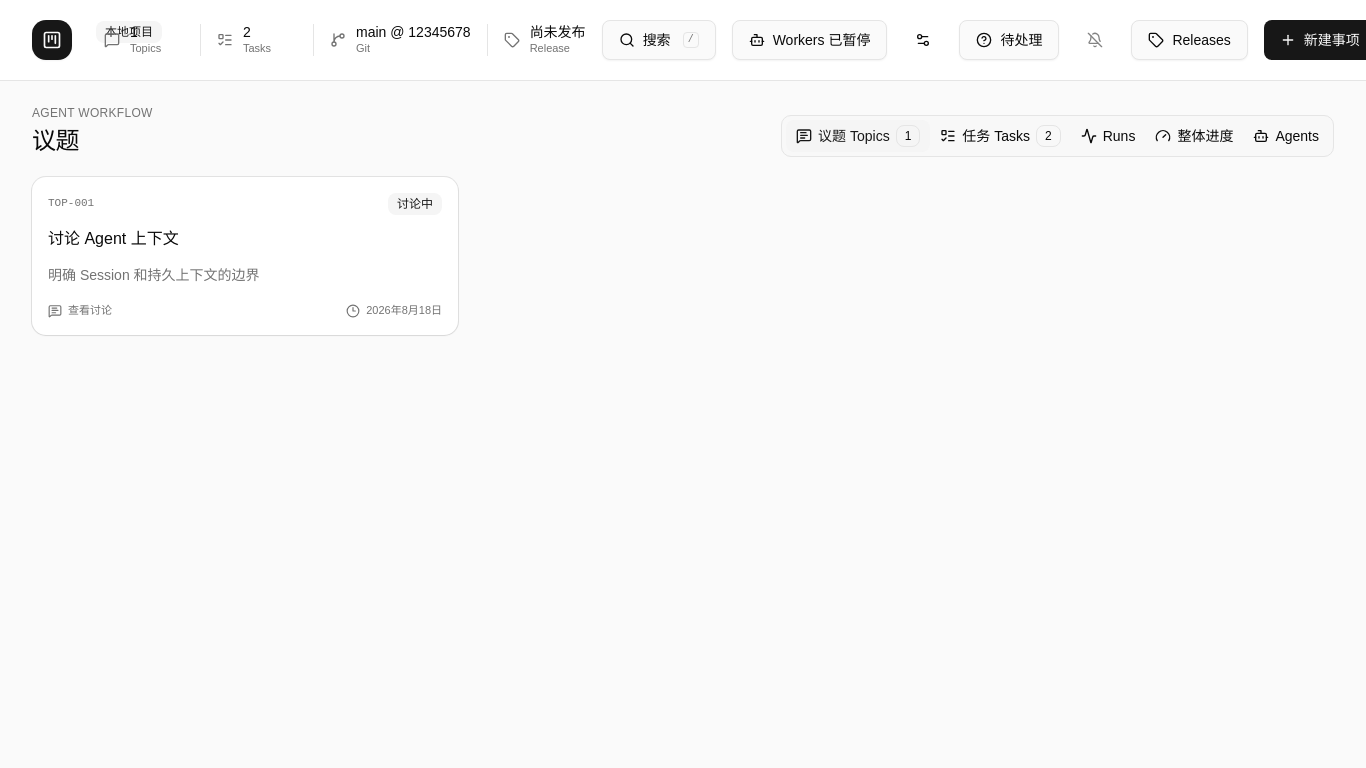
Test: App › Task Workspace 由 Worker 领取时自动准备，不暴露手动创建入口
Click the tab "任务 Tasks 2" at (1000, 136), box x1=930 y1=120 x2=1071 y2=152
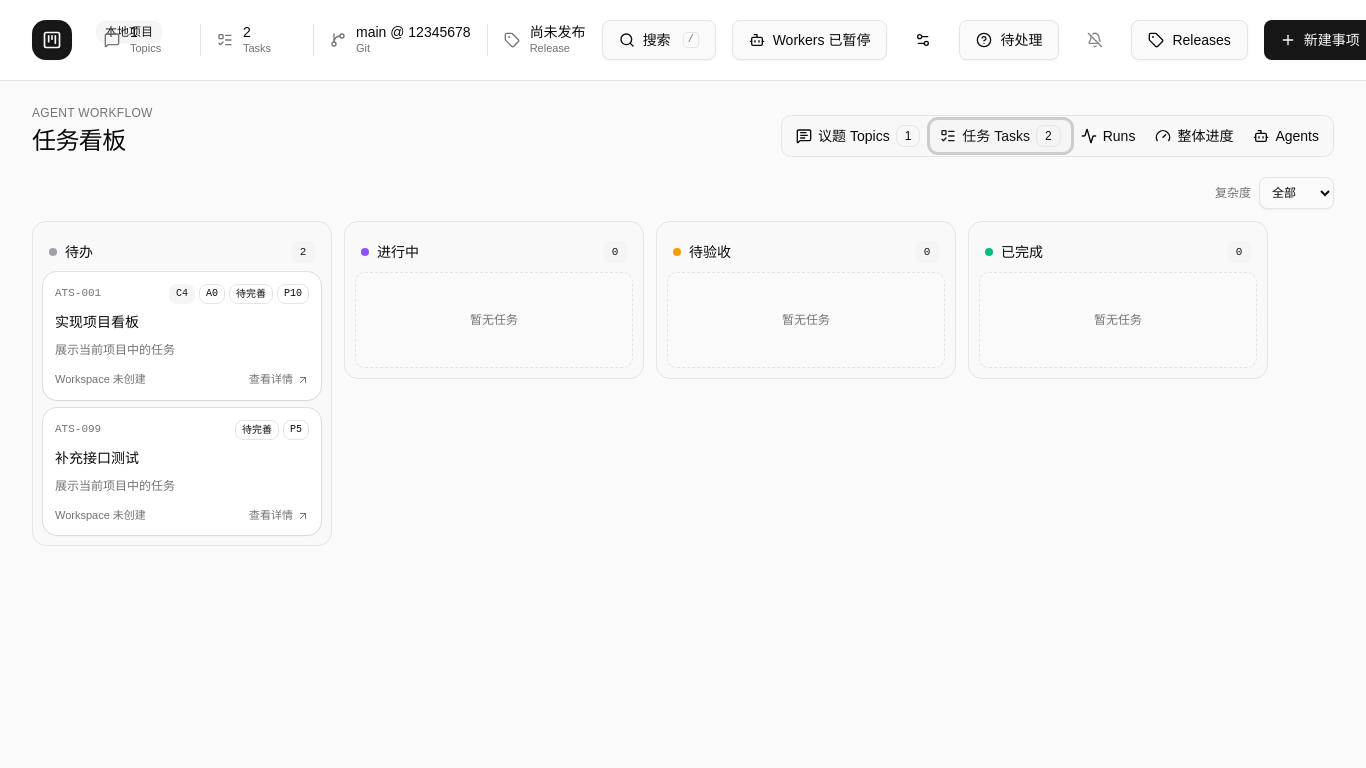
Click the button "ATS-001 C4 A0 待完善 P10 实现项目看板 展示当前项目中的任务 Workspace 未创建 查看详情" at (78, 293), box x1=43 y1=272 x2=321 y2=400
(page scrolled)
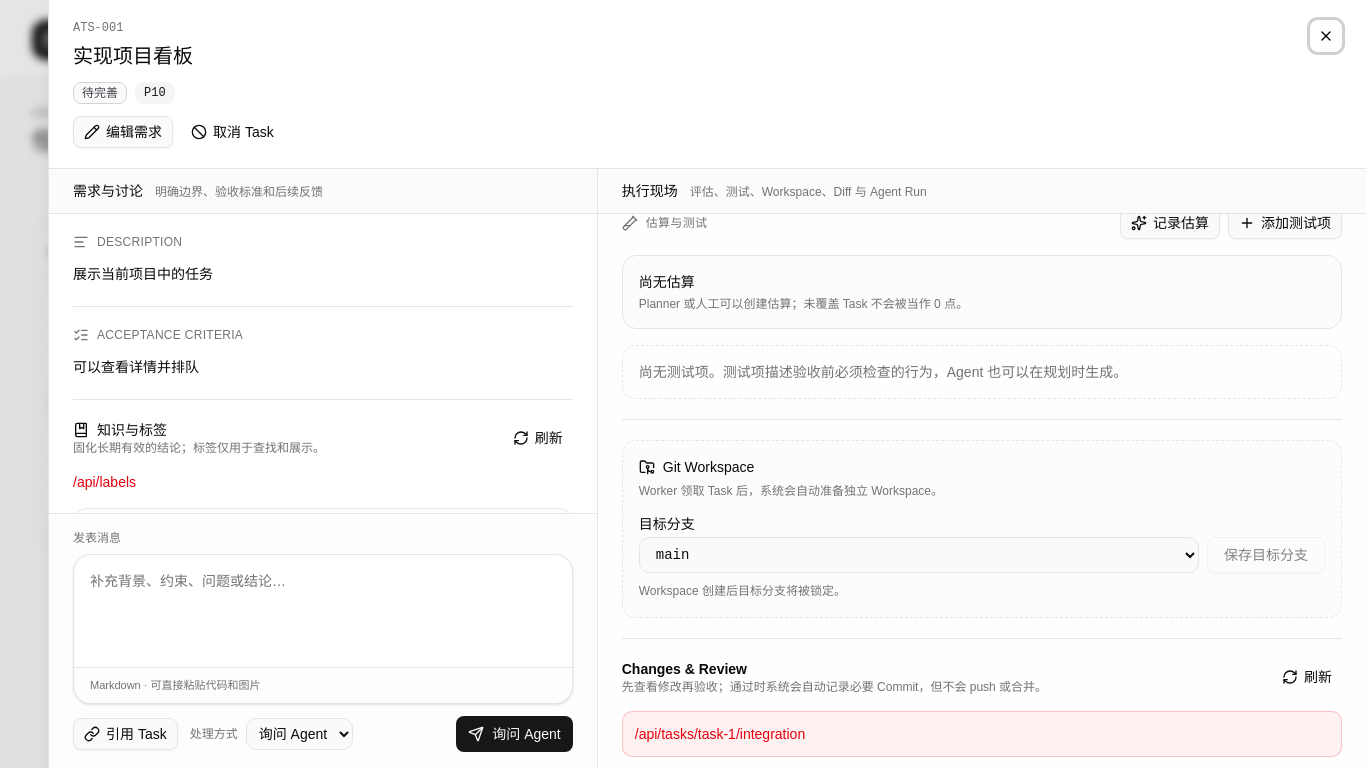
Expected: the text "Worker 领取 Task 后，系统会自动准备独立 Workspace。" is shown, x1=639 y1=484 x2=943 y2=498
